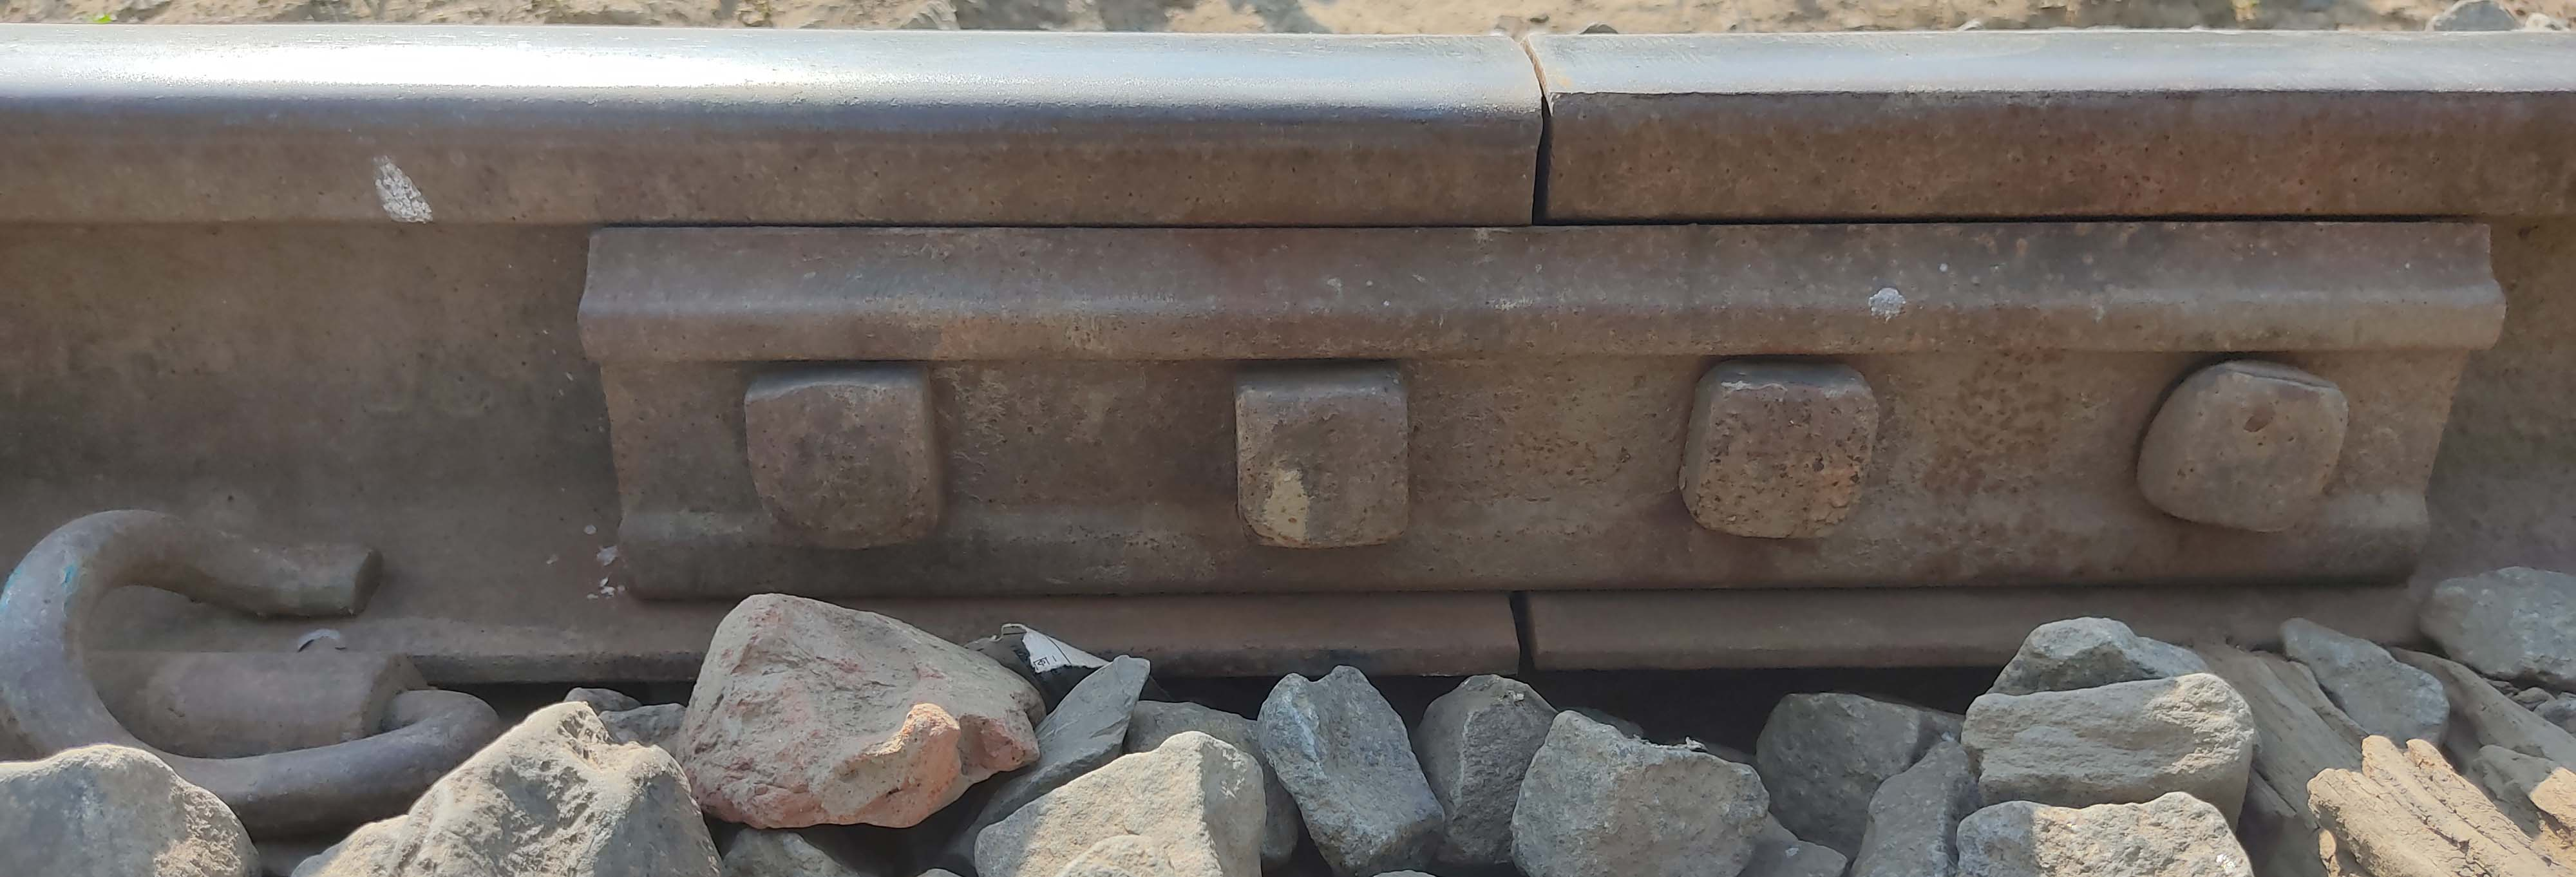error1: (28, 437, 495, 828)
error2: (1497, 3, 1612, 238)
